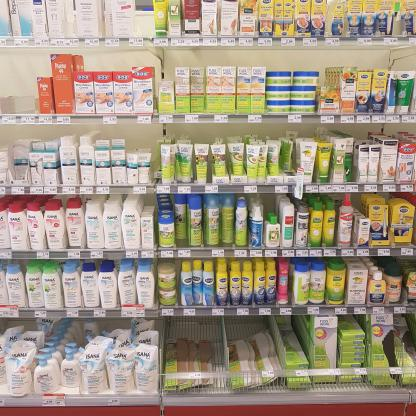Void: (177, 48, 321, 68), (3, 50, 37, 110), (172, 318, 260, 336), (325, 48, 411, 64), (127, 121, 163, 148), (83, 50, 129, 69), (160, 50, 176, 79), (134, 50, 150, 62), (264, 197, 274, 210)
